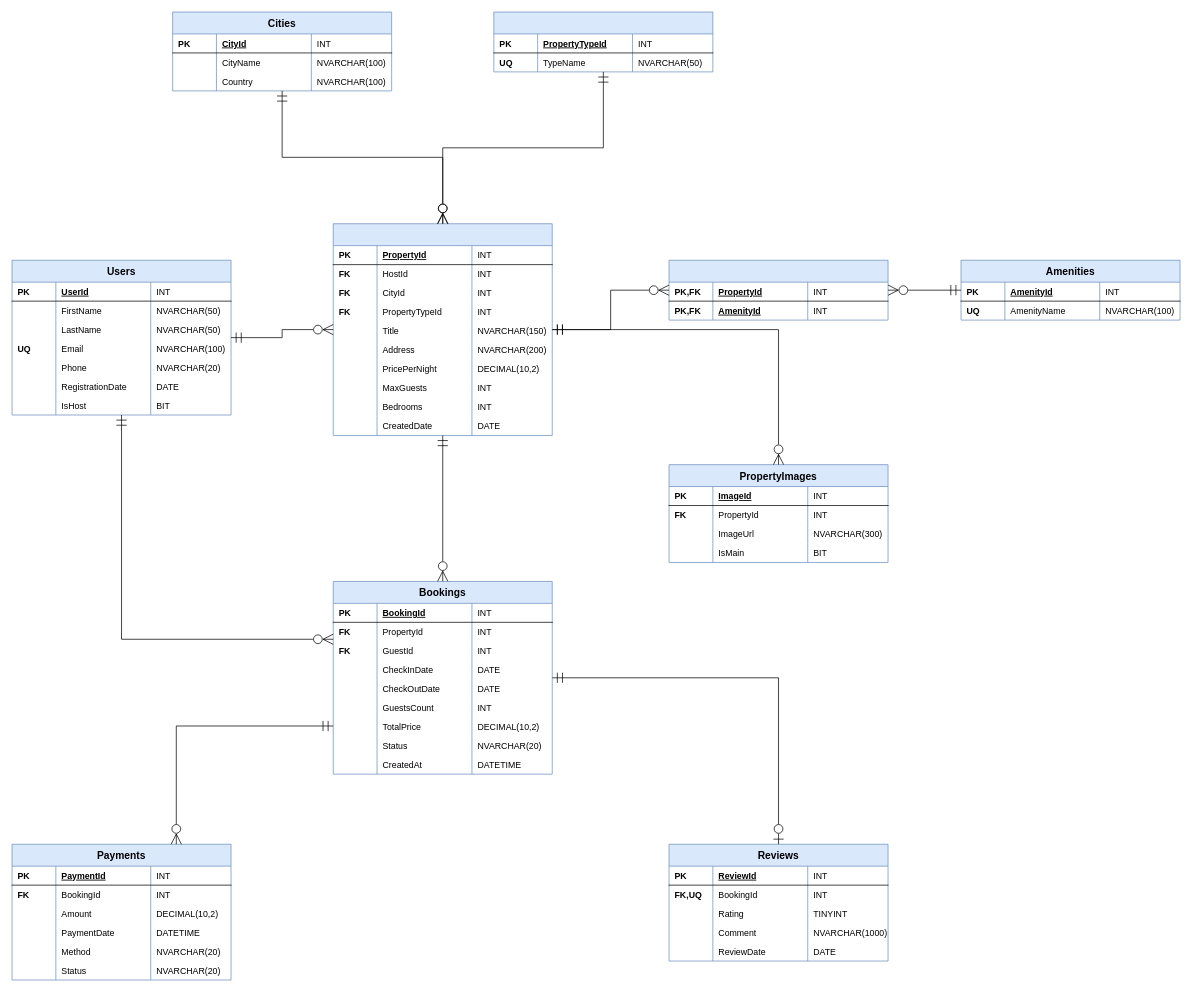
The diagram is 1192 pixels wide and 992 high, and some of its shapes have lost their labels. The shapes that lost their labels are listed below. From the top down, each one's box as (x1, y1, x2, y2) in pixels, then its label:
(493, 11, 713, 72): PropertyTypes
(668, 260, 888, 320): PropertyAmenities
(333, 223, 552, 435): Properties
